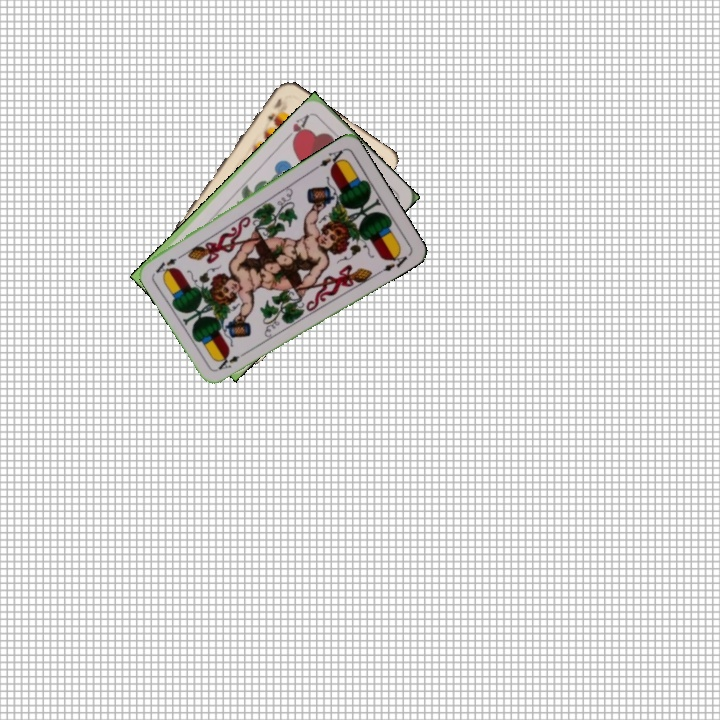E10: (263, 94, 284, 123)
EA: (310, 145, 347, 173), (214, 347, 250, 372)
HA: (282, 110, 314, 146)
